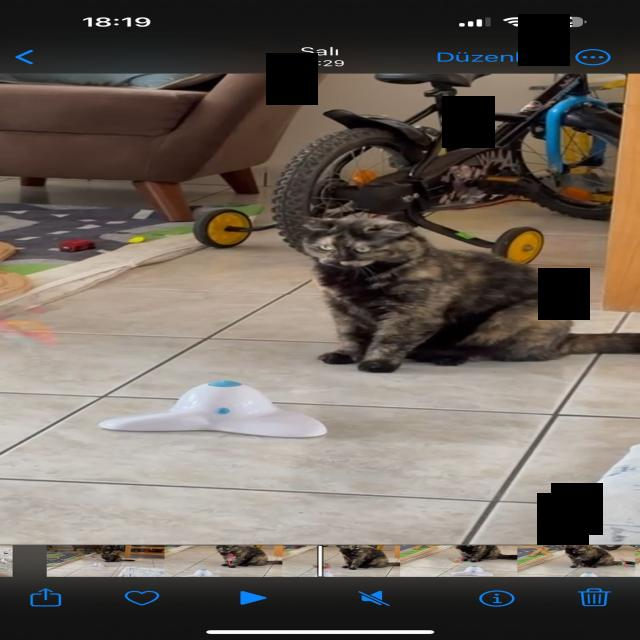authorized: (286, 211, 638, 373), (562, 544, 620, 568), (334, 545, 388, 569), (215, 544, 268, 568), (454, 544, 517, 562)
